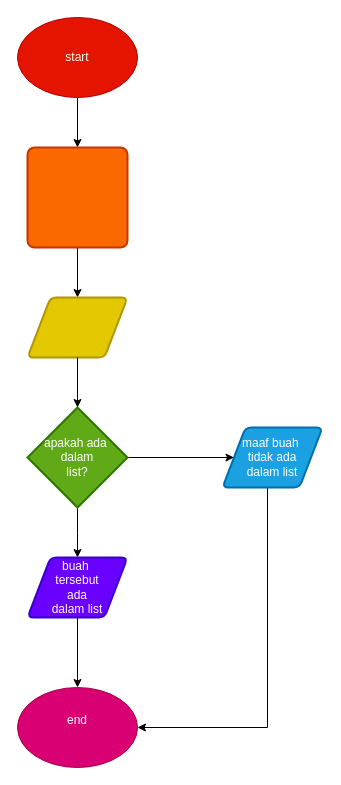
This 341x785 diagram has some shape labels left out. The centre of each missing label's shape, as x and y in pixels:
"buah yang di inginkan" belongs at (x=77, y=327).
"list buah" belongs at (x=77, y=197).
